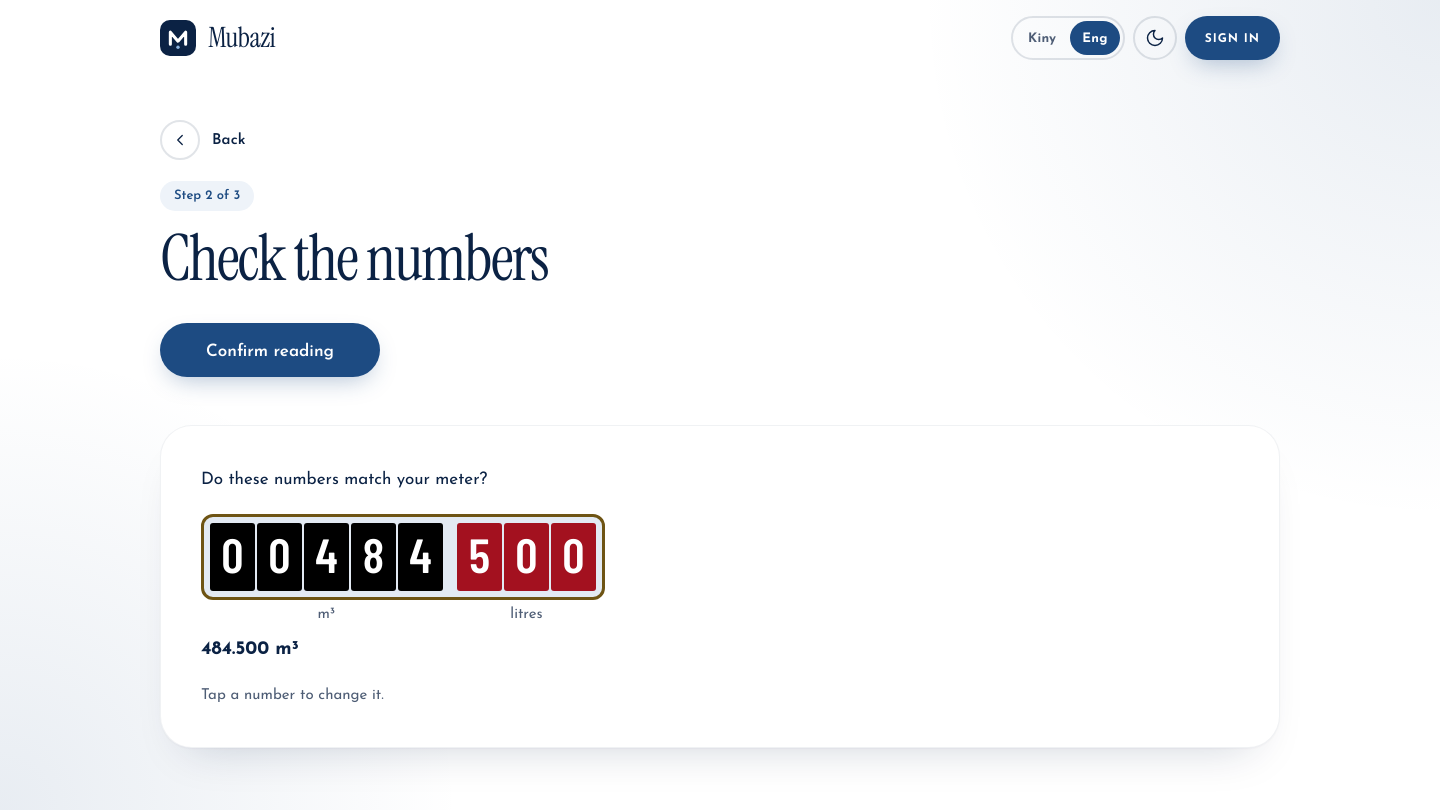
it: ConfirmReading › when sending fails, should keep the typed numbers
Click the button "Confirm reading" at [270, 350], box left=160, top=323, right=380, bottom=377
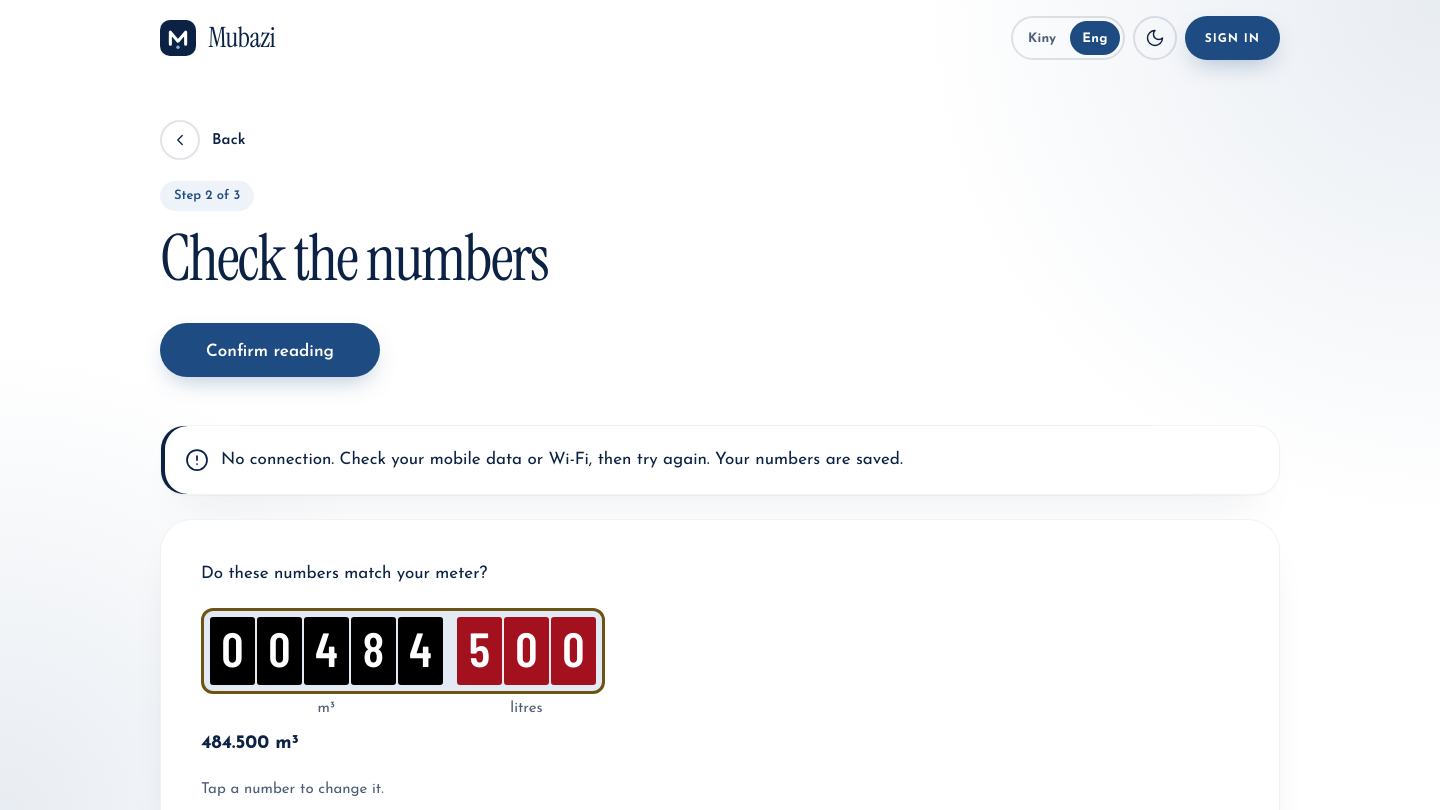
Expected: the message shows "No connection", left=221, top=451, right=903, bottom=468
Expected: the message shows "Your numbers are saved.", left=221, top=451, right=903, bottom=468
